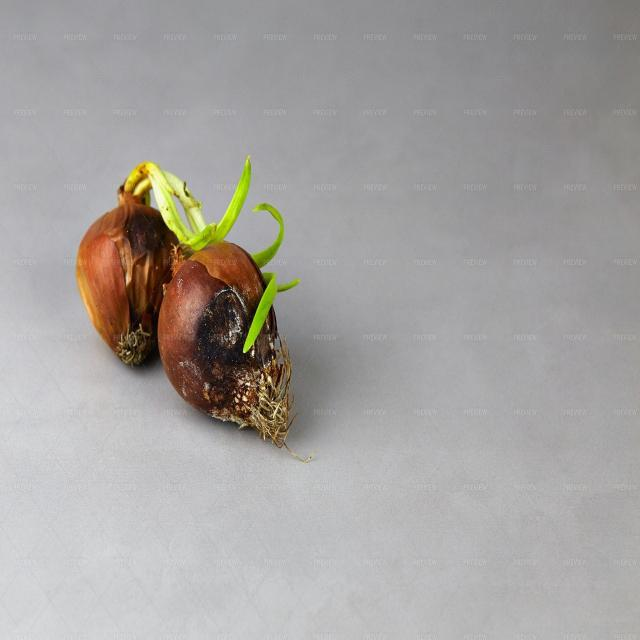Onion: (159, 244, 314, 465), (74, 192, 189, 366), (124, 158, 254, 251), (244, 200, 298, 354)
